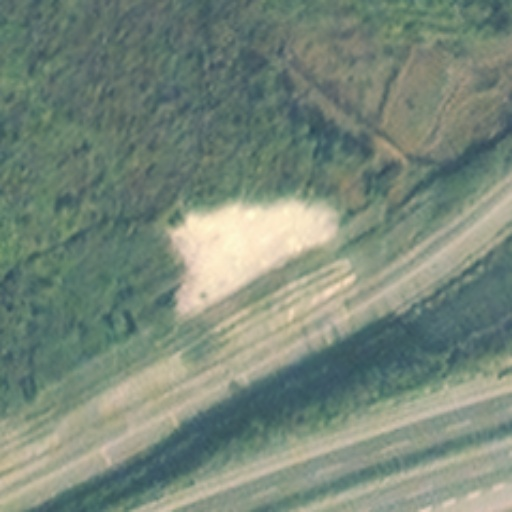landslide: (151, 197, 342, 315)
